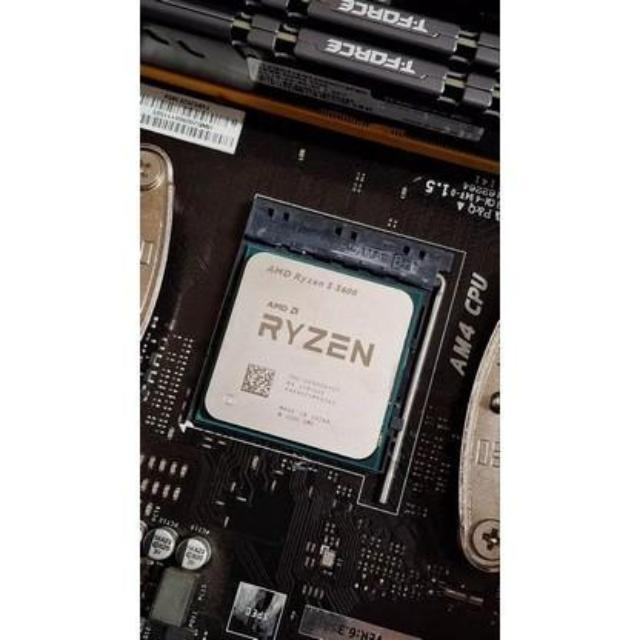CPU: (196, 248, 422, 462)
